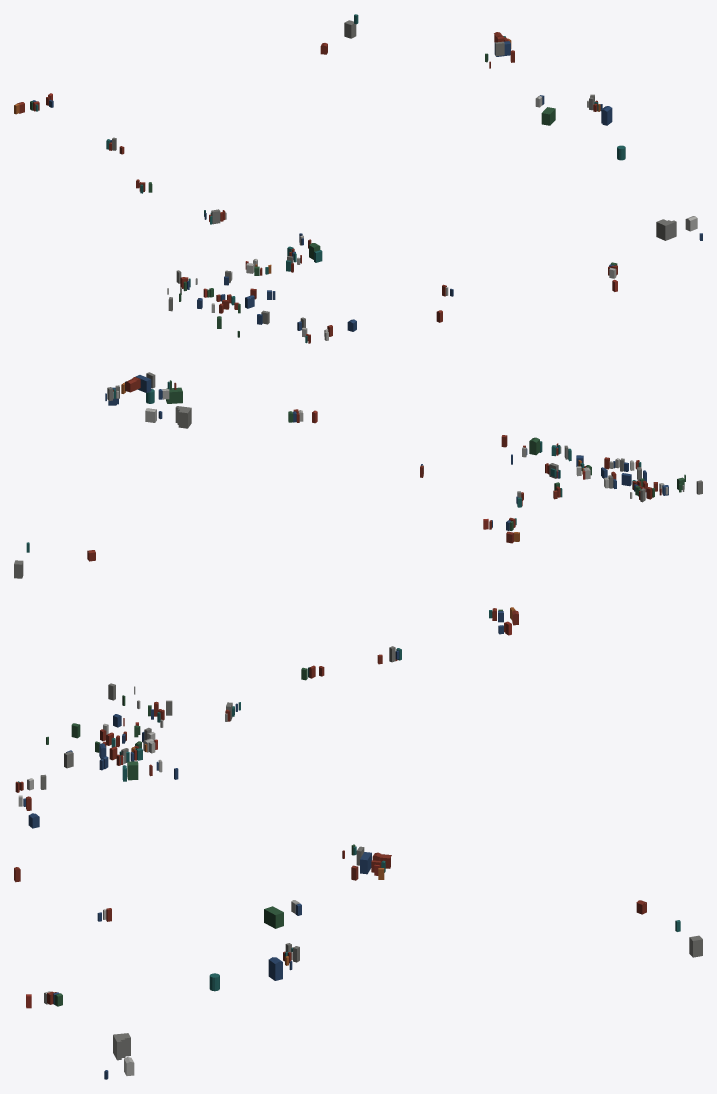
The model's file is near-15-27372-14871.17999986.glb.
3 views of the same model, one above another, from view 1: azimuth 30°, elevation 25°; view 2: azimuth 150°, elevation 25°; view 3: azimuth 270°, elevation 25° (orthographic). The views are drawn at different scales.
Bounding box in the file's own units: 1177 × 302 × 1089.
